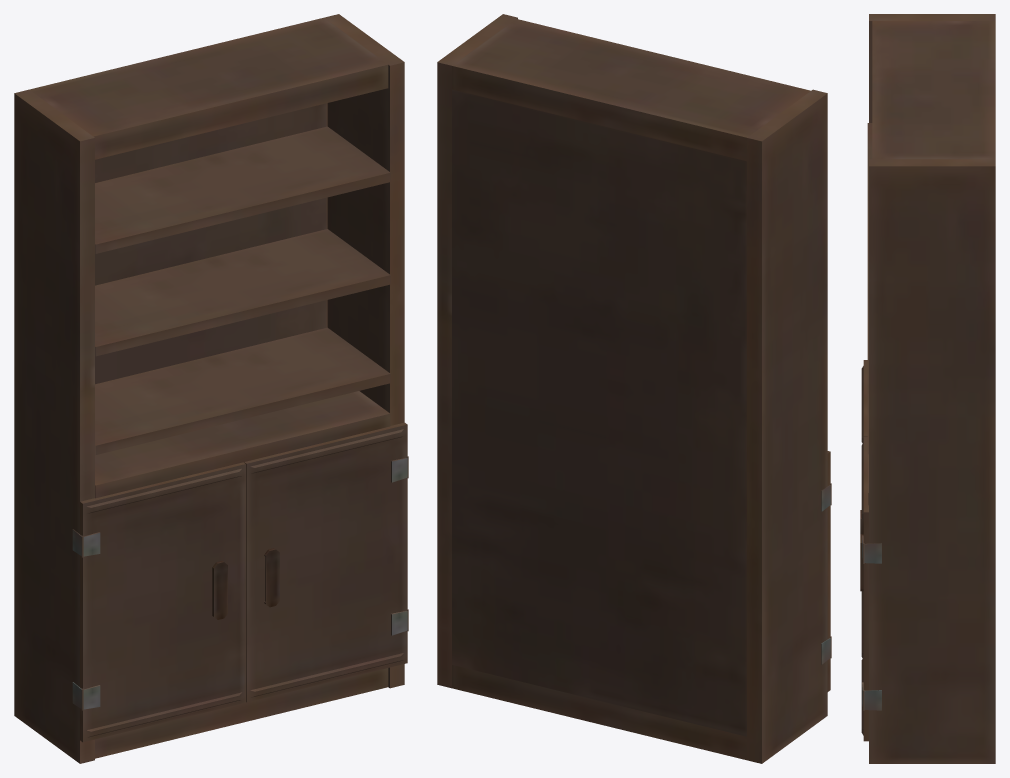
The model's file is SM_cup_board_01_9f2083.glb.
3 views of the same model, side by side, from view 1: azimuth 30°, elevation 25°; view 2: azimuth 150°, elevation 25°; view 3: azimuth 270°, elevation 25° (orthographic). The views are drawn at different scales.
Bounding box in the file's own units: 1.64 × 2.98 × 0.6101.
Materials: 1 (1 with a texture image).
